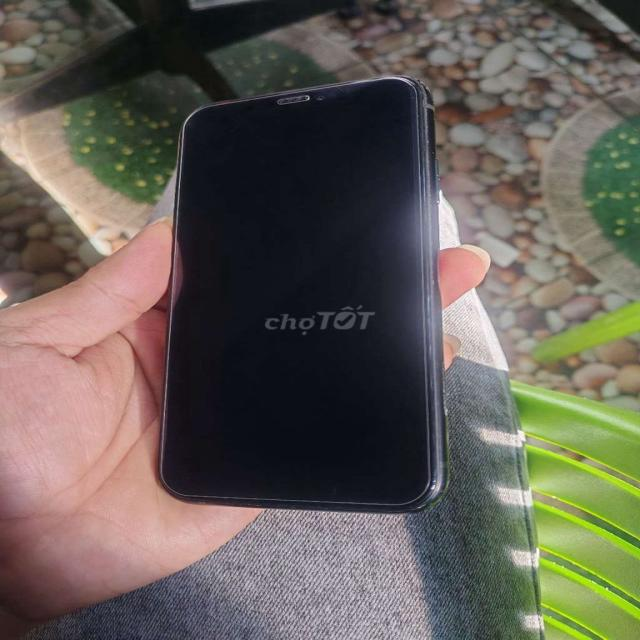scratch: (415, 468, 454, 504), (405, 68, 449, 98), (320, 76, 358, 102)
